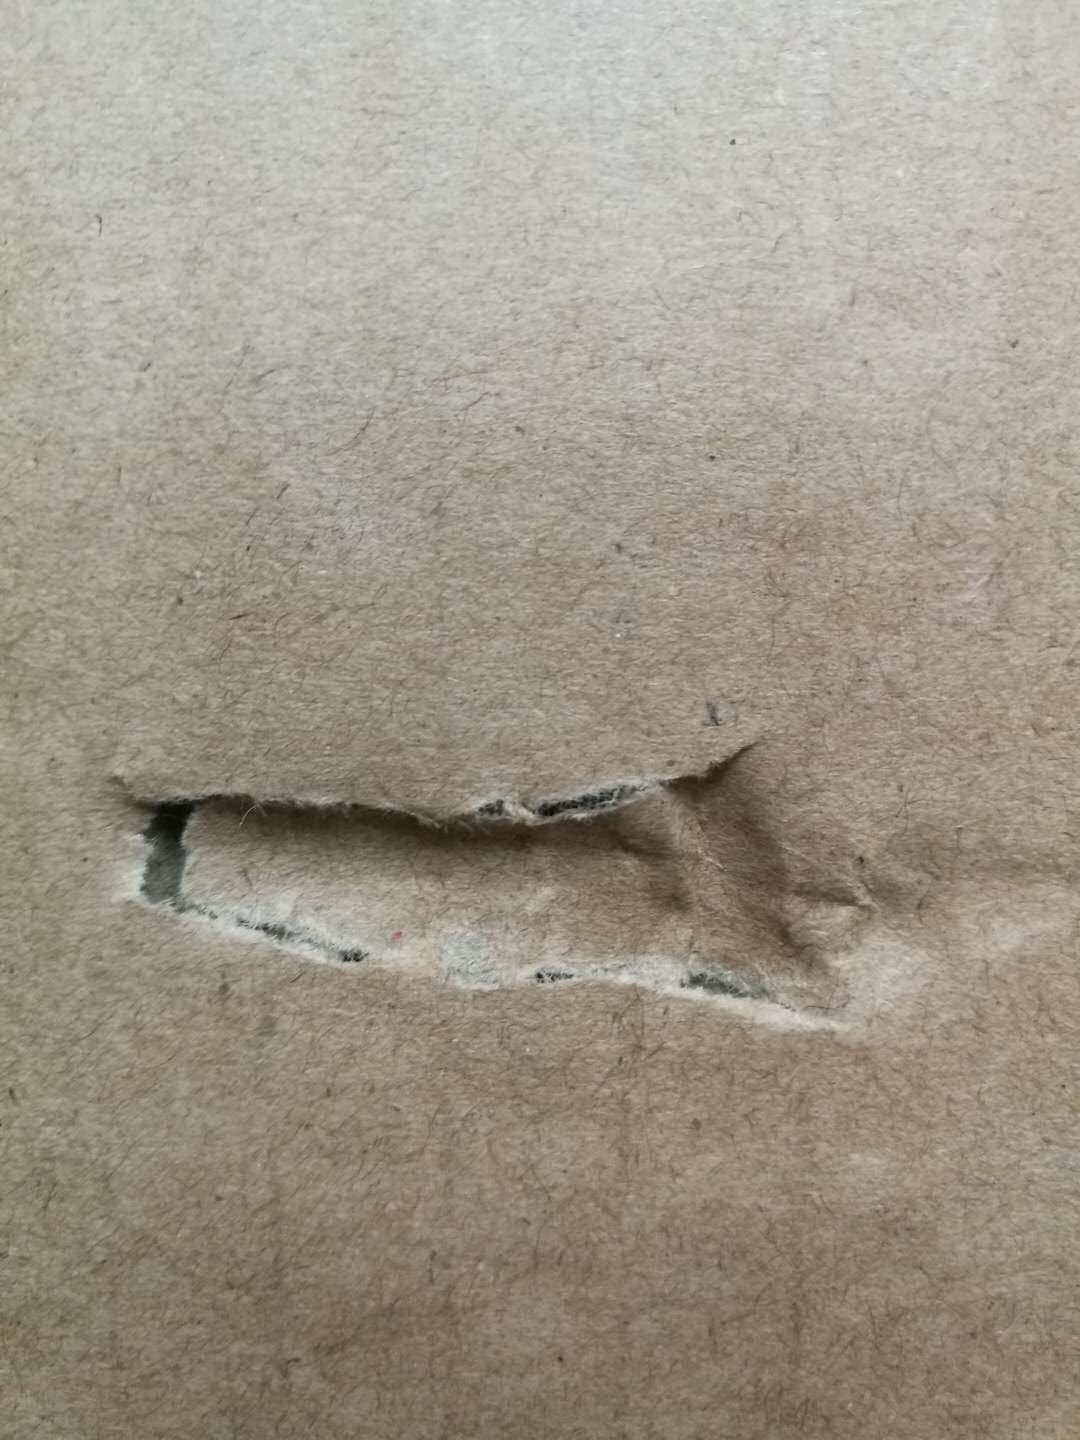defect: (75, 698, 1080, 1087)
